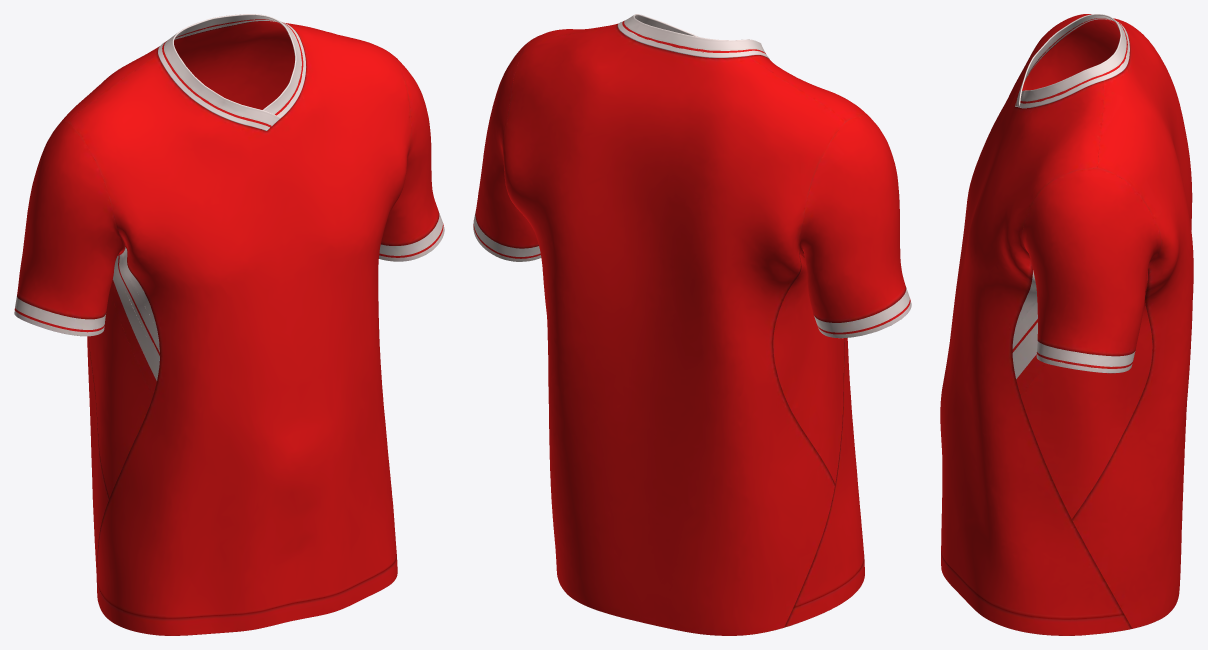
Rendered from camiseta-futbol-roja.glb.
3 views of the same model, side by side, from view 1: azimuth 30°, elevation 25°; view 2: azimuth 150°, elevation 25°; view 3: azimuth 270°, elevation 25° (orthographic). The views are drawn at different scales.
Visible parts, largest first — view 1: Object_2, Object_5; view 2: Object_2, Object_5; view 3: Object_2, Object_5.
Part boxes in pixels (x1,y1,x2,y2): Object_2: (14,19,443,635); Object_5: (14,14,444,380); Object_2: (473,20,910,635); Object_5: (473,14,911,338); Object_2: (940,14,1193,635); Object_5: (1012,14,1135,378).
Bounding box in the file's own units: 0.5507 × 0.7 × 0.2952.
2 materials, 2 textured.
